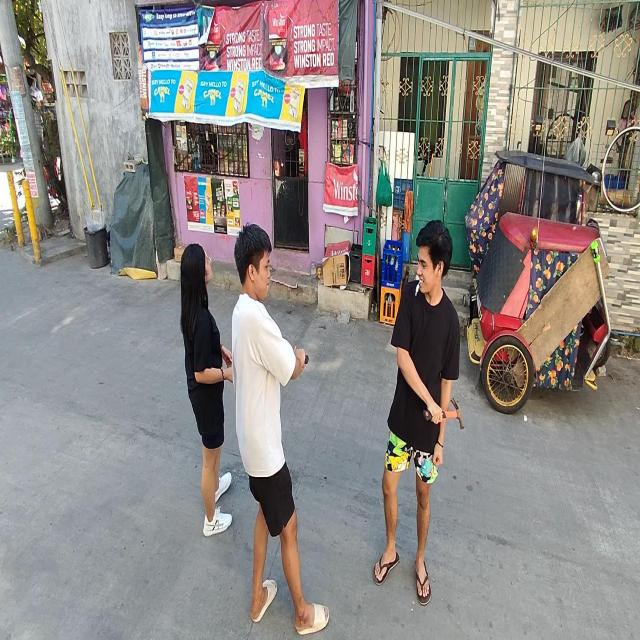hammer: (423, 397, 465, 430)
